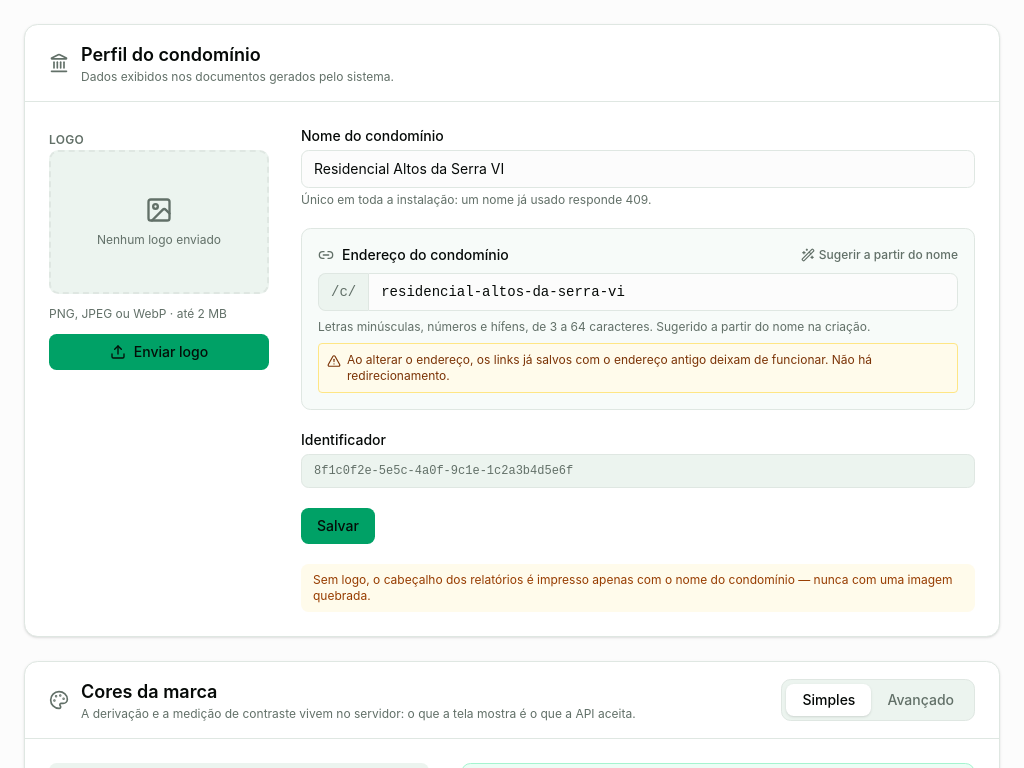
Test: pasting an advanced palette › opens a modal dialog with a textarea, Aplicar and Cancelar, and focuses the textarea
This screenshot has width=1024, height=768.
Click the button "Avançado": (921, 700) [871,684,970,716]
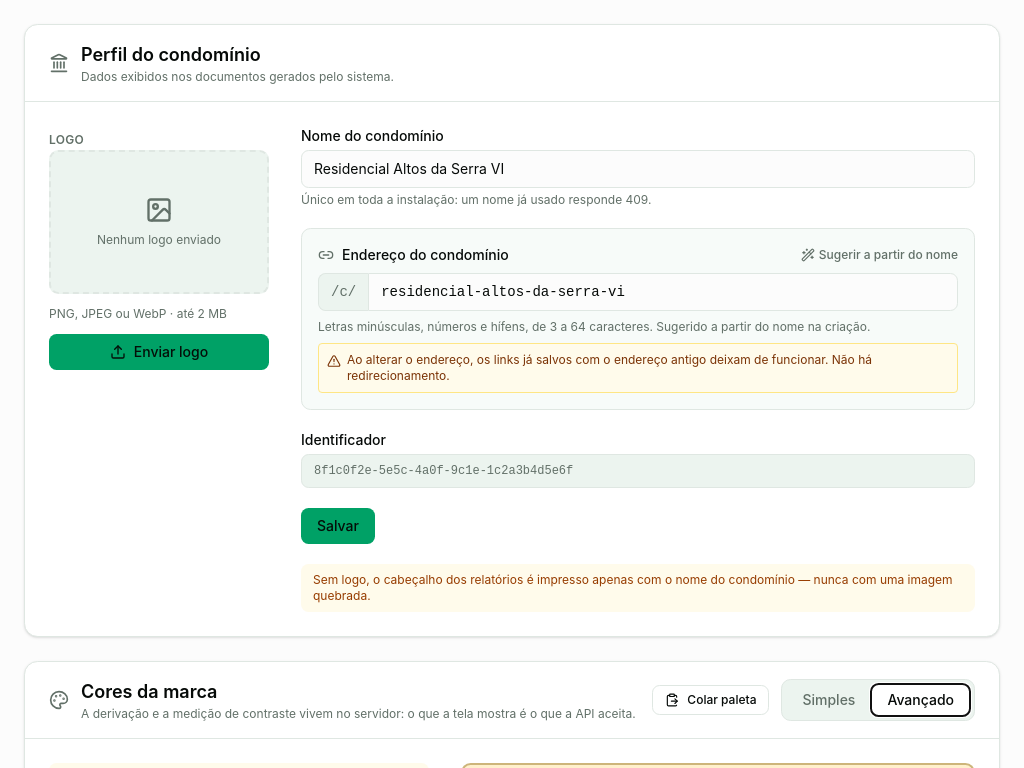
Click the button "Colar paleta": (711, 700) [652,685,769,715]
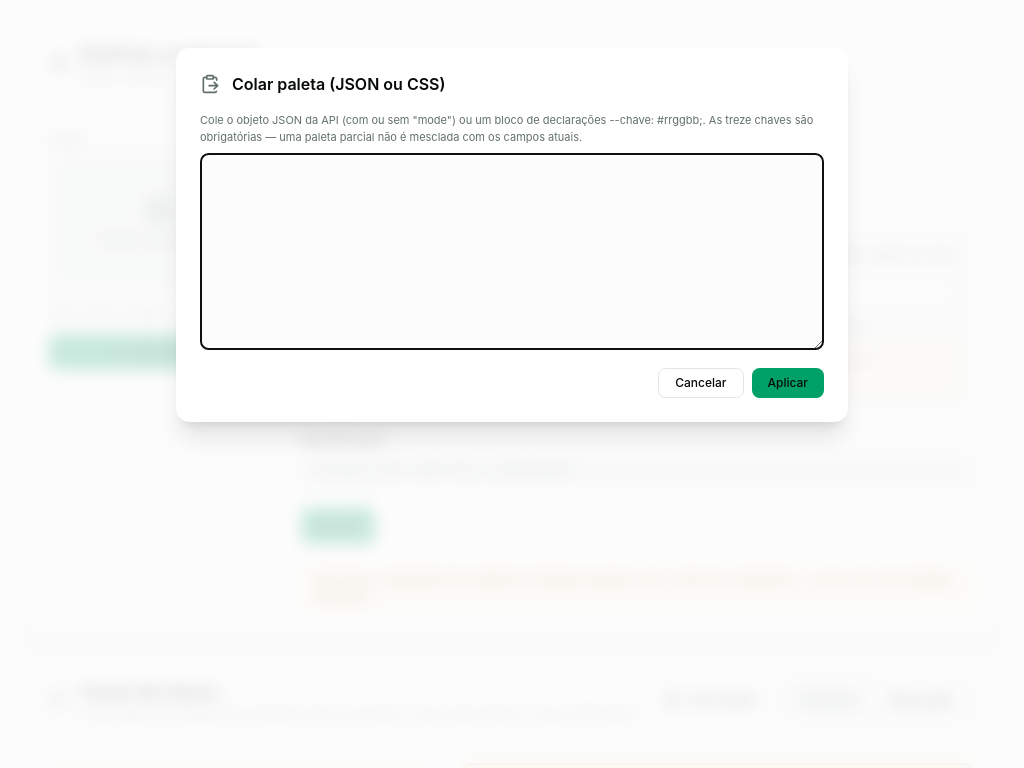
Result: the text box named "Paleta em JSON ou CSS" is shown at [200,153,824,350]
Result: the button "Aplicar" is shown at [752,368,824,398]
Result: the button "Cancelar" is shown at [658,368,744,398]
